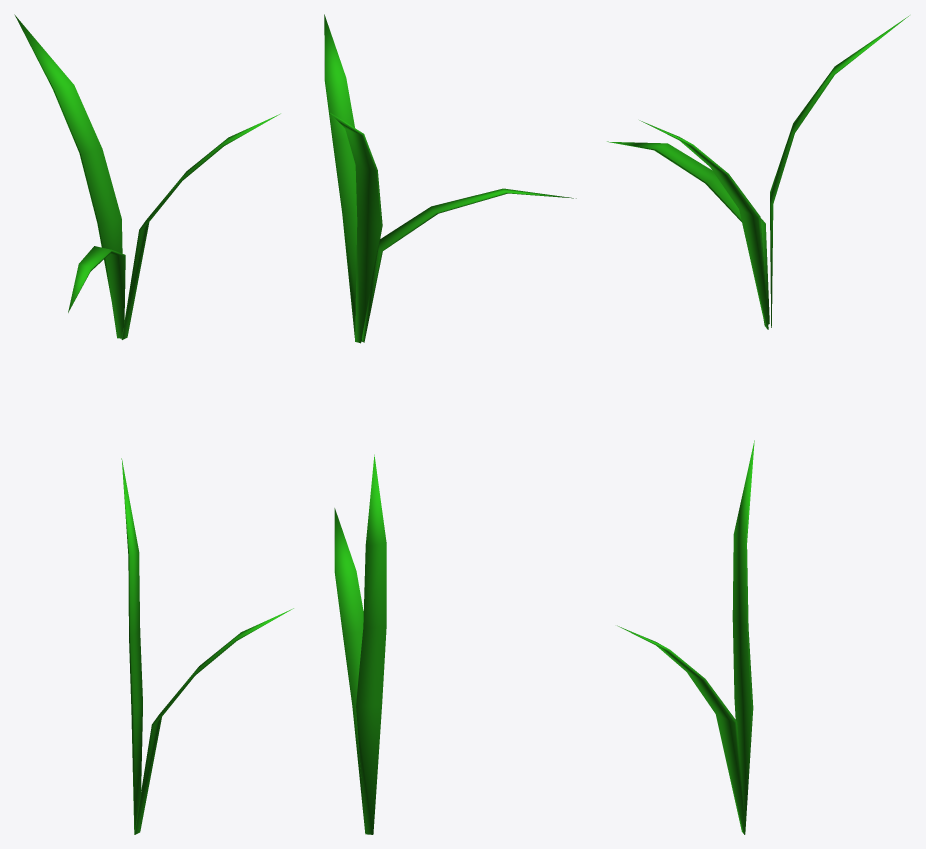
Rendered from AntonioCenarioFase1.fbx_GramaFita.fbx.
3 views of the same model, side by side, from view 1: azimuth 30°, elevation 25°; view 2: azimuth 150°, elevation 25°; view 3: azimuth 270°, elevation 25° (orthographic). The views are drawn at different scales.
Parts seen in each view (by area): view 1: GramaFitaA, GramaFitaB; view 2: GramaFitaB, GramaFitaA; view 3: GramaFitaB, GramaFitaA.
Boxes of the visible parts, bbox=[...] form: GramaFitaA: bbox=[14, 14, 280, 339]; GramaFitaB: bbox=[121, 458, 293, 834]; GramaFitaB: bbox=[334, 454, 386, 834]; GramaFitaA: bbox=[324, 14, 576, 343]; GramaFitaB: bbox=[617, 440, 754, 834]; GramaFitaA: bbox=[607, 15, 909, 329].
Size of the model in its own units: 316 by 1004 by 348.
